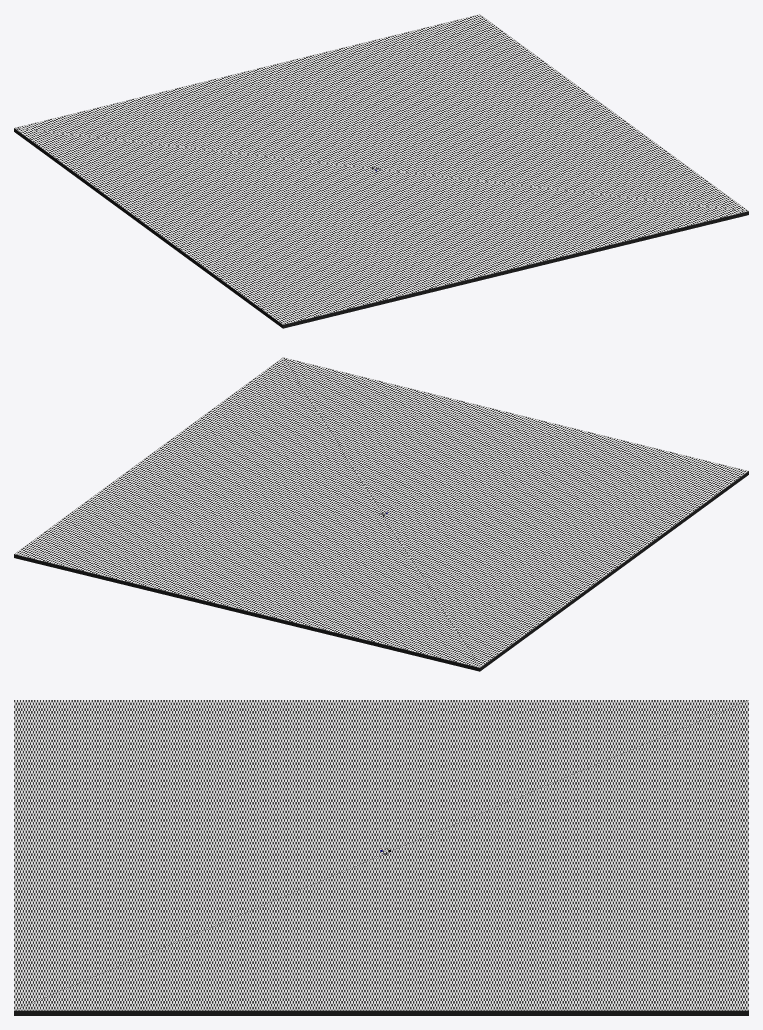
File: Crates.obj
The picture shows the model from 3 angles, top to bottom: view 1: azimuth 30°, elevation 25°; view 2: azimuth 150°, elevation 25°; view 3: azimuth 270°, elevation 25°; orthographic projection. The views are drawn at different scales.
Visible parts, largest first — view 1: Baseplate2, Baseplate1; view 2: Baseplate2, Baseplate1; view 3: Baseplate2, Baseplate1.
Part boxes in pixels (box(x1,y1,x2,y2)): Baseplate2: box(14, 14, 748, 324); Baseplate1: box(14, 128, 748, 328); Baseplate2: box(14, 357, 748, 667); Baseplate1: box(14, 471, 748, 671); Baseplate2: box(14, 700, 748, 1010); Baseplate1: box(14, 1010, 748, 1015).
Bounding box in the file's own units: 2048 × 25.45 × 2048.
10 materials, 2 textured.
